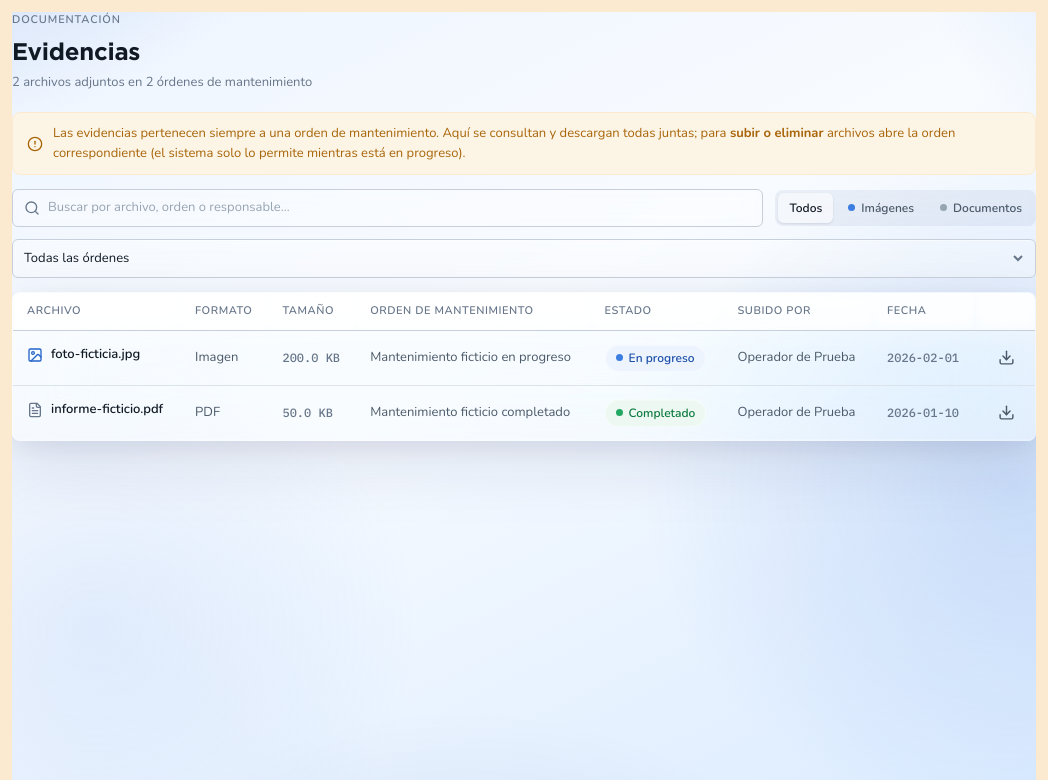
Test: EvidencesInfo (/evidencias) › un fallo de descarga se muestra sin romper la pantalla
Check: the text "informe-ficticio.pdf" is shown, box [27,400,163,420]
Click the button named "Descargar informe-ficticio.pdf" at (1006, 412), box [991,398,1021,428]
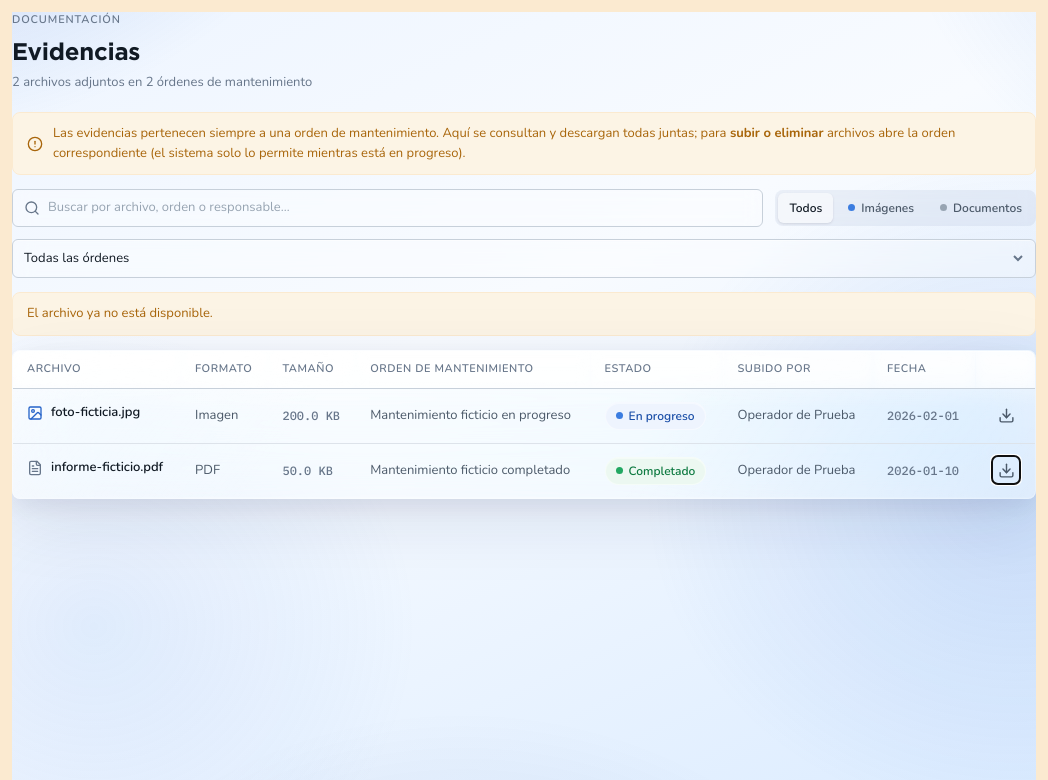
Check: the text "informe-ficticio.pdf" is shown, box [27,458,163,477]
Check: the message reads "El archivo ya no está disponible.", box [27,304,213,322]
